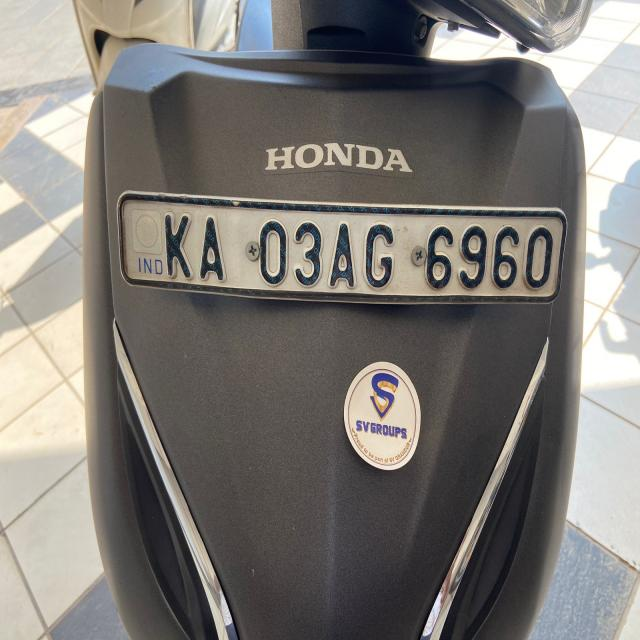0: (523, 212, 557, 301), (252, 208, 290, 286)
3: (293, 214, 326, 287)
6: (422, 215, 456, 296), (492, 222, 523, 298)
9: (458, 218, 490, 290)
A: (199, 210, 234, 287), (322, 214, 357, 291)
G: (359, 218, 399, 294)
K: (158, 208, 196, 292)
